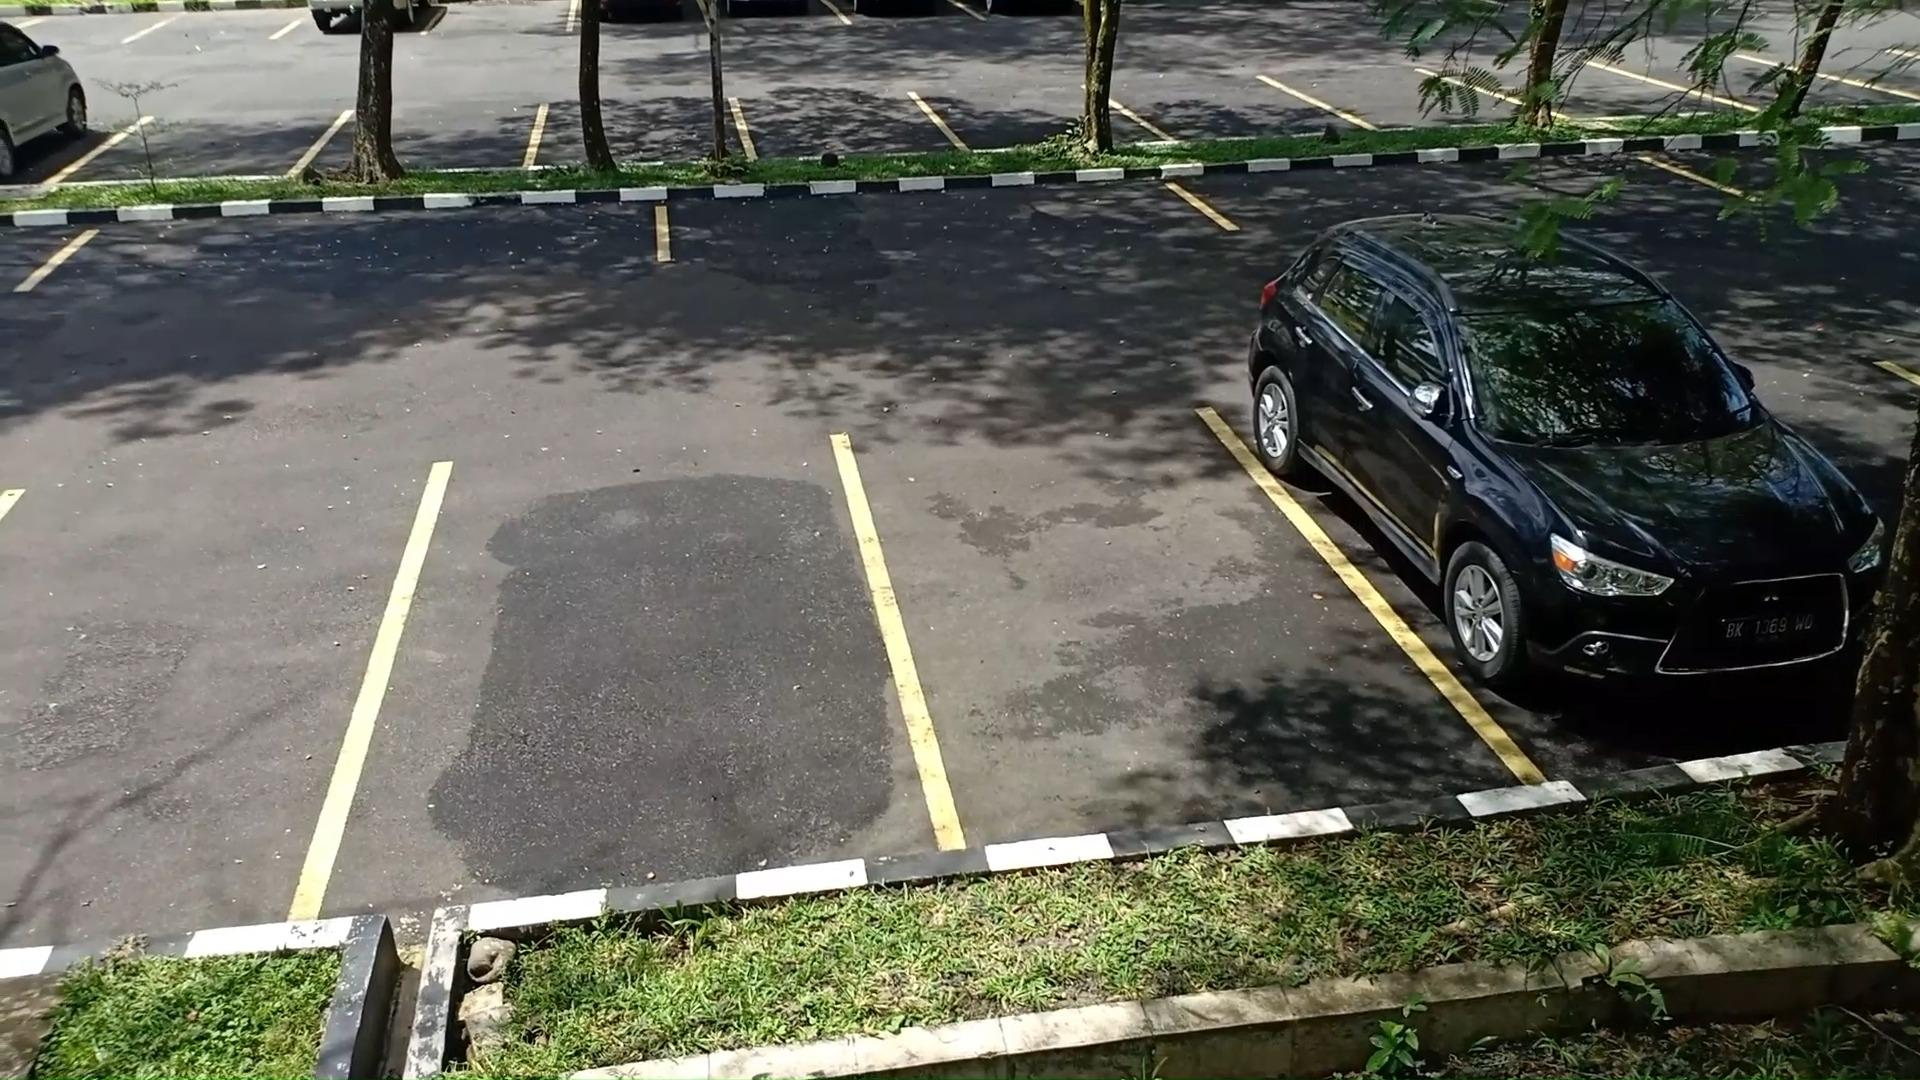empty: (371, 452, 874, 900), (867, 405, 1343, 840), (0, 486, 382, 937), (52, 190, 665, 287), (660, 178, 1219, 261), (327, 91, 546, 183), (88, 98, 332, 179), (534, 87, 747, 169), (1134, 67, 1329, 150), (743, 87, 952, 161), (943, 83, 1141, 155)
occupied: (1262, 278, 1869, 764)
